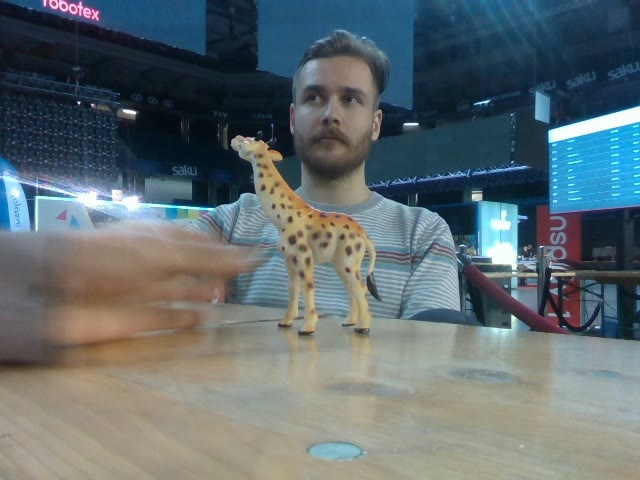toy: (229, 131, 382, 336)
